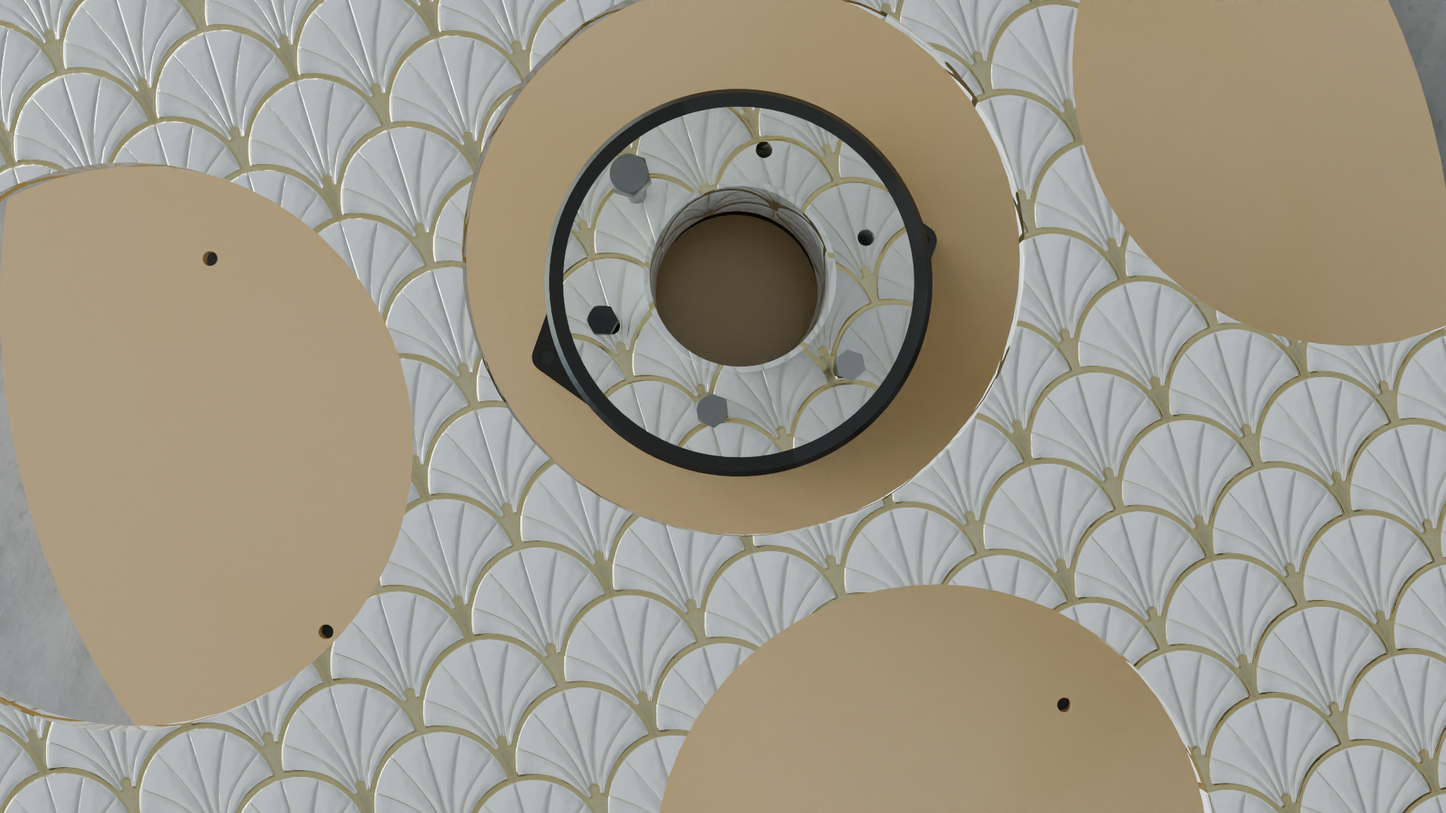bolt: (608, 153, 651, 196), (696, 393, 728, 428), (835, 349, 865, 380), (586, 306, 618, 334)
